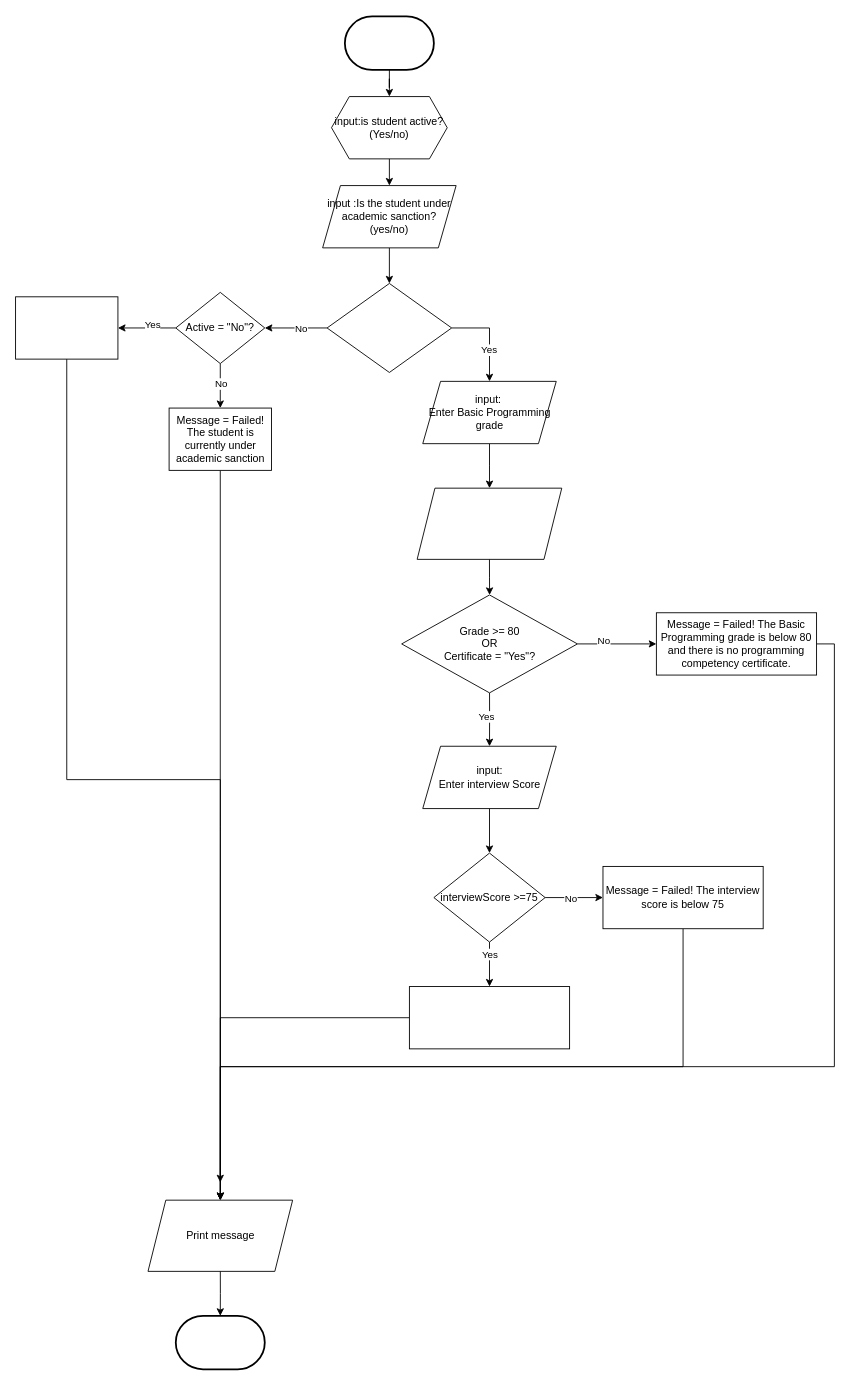
This 857x1385 diagram has some shape labels left out. Each missing label, with the box of its shape:
active = "yes" AND sanction = "No"?: (326, 283, 452, 372)
End: (174, 1315, 265, 1370)
input: Does the student have a programming comptecency certificate? (Yes/No): (416, 487, 562, 559)
Message = Failed! The student is not active: (15, 296, 118, 359)
Message = The student is accepted as a lab assistant: (409, 986, 570, 1049)
start: (344, 15, 434, 70)
